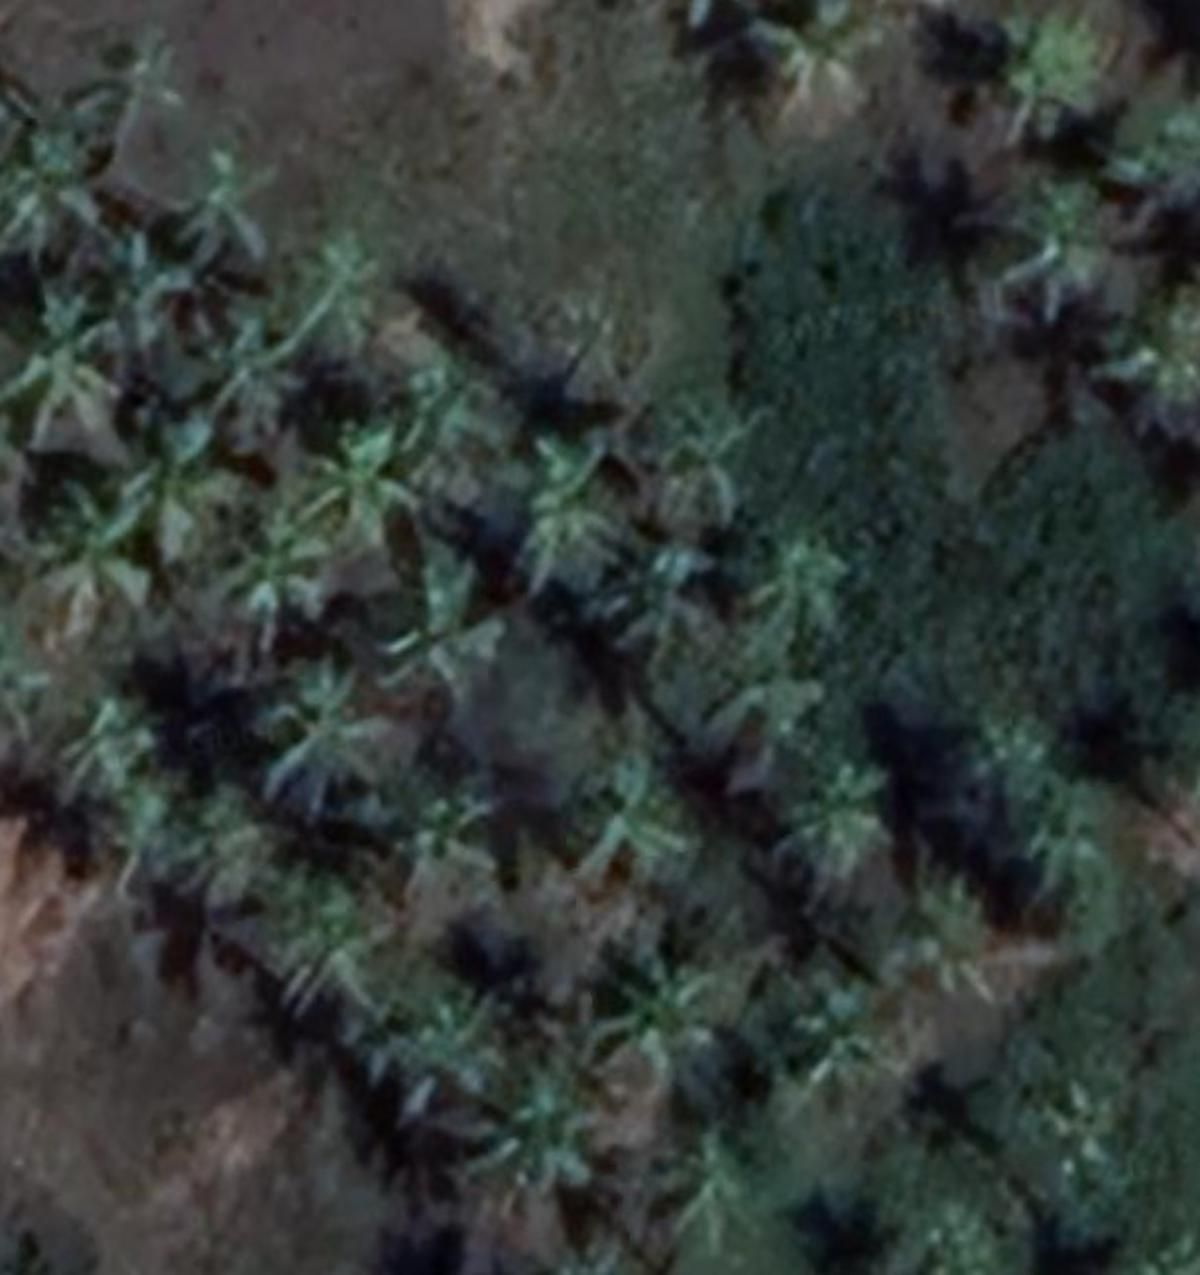coconut: (561, 763, 718, 912), (242, 661, 374, 822), (1, 312, 133, 472), (23, 489, 155, 643), (873, 864, 1038, 983), (580, 956, 712, 1103), (773, 977, 918, 1107), (747, 1, 900, 119), (169, 147, 306, 278), (491, 436, 614, 579), (361, 991, 501, 1112), (114, 434, 233, 574), (76, 35, 214, 154), (253, 879, 377, 1009), (3, 125, 114, 271), (736, 526, 859, 655), (365, 779, 497, 897), (381, 576, 508, 698), (474, 1082, 603, 1198), (614, 526, 723, 655), (633, 1135, 761, 1245), (767, 758, 883, 875), (692, 672, 802, 787), (214, 510, 324, 623), (90, 244, 204, 352), (310, 420, 411, 541), (999, 196, 1105, 310), (210, 324, 314, 439), (29, 690, 141, 796), (285, 238, 391, 346)
